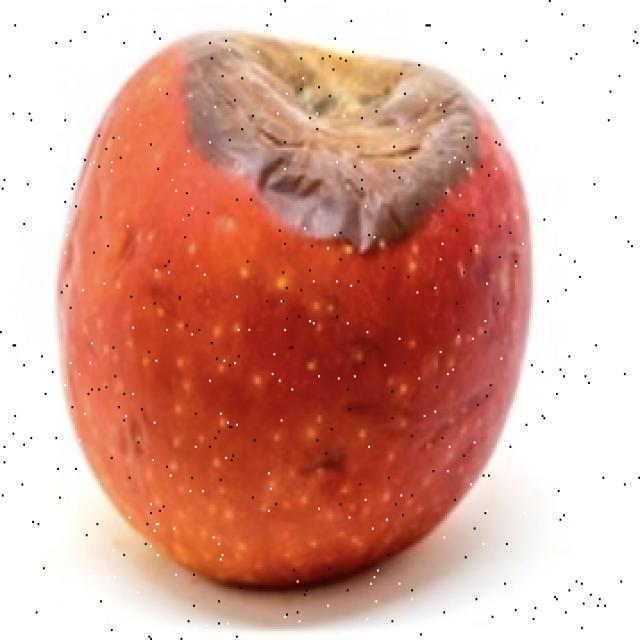Rotten: (63, 55, 530, 583)
